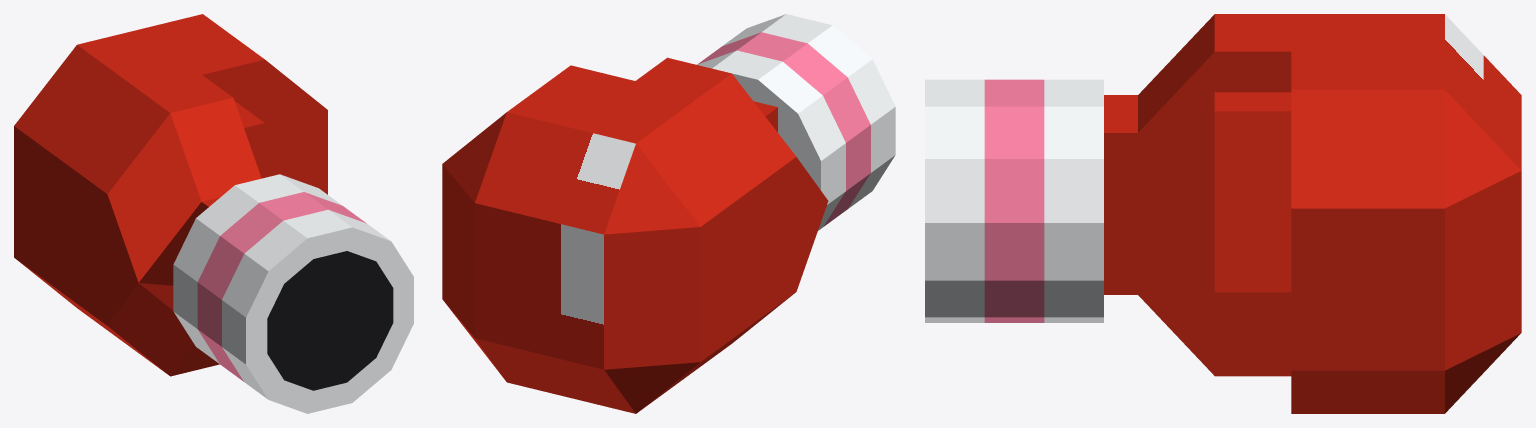
Rendered from BoxingGlove_Left.gltf.
3 views of the same model, side by side, from view 1: azimuth 30°, elevation 25°; view 2: azimuth 150°, elevation 25°; view 3: azimuth 270°, elevation 25° (orthographic). The views are drawn at different scales.
Visible parts, largest first — view 1: Glove-col, SleeveOpening (×2), Sleeve, Sleeve_pART; view 2: Glove-col, Glove_selection, Sleeve, Sleeve_pART; view 3: Glove-col, Sleeve, Sleeve_pART, Glove_selection.
Boxes of the visible parts, x1,y1,x2,y2 form: Glove-col: (14, 14, 327, 376); SleeveOpening (×2): (246, 227, 413, 413); Sleeve: (173, 174, 390, 399); Sleeve_pART: (197, 192, 366, 381); Glove-col: (442, 57, 828, 413); Glove_selection: (475, 112, 635, 369); Sleeve: (697, 14, 895, 230); Sleeve_pART: (697, 32, 870, 226); Glove-col: (1104, 14, 1521, 413); Sleeve: (925, 79, 1103, 322); Sleeve_pART: (984, 79, 1044, 322); Glove_selection: (1445, 14, 1521, 170).
Size of the model in its own units: 0.375 by 0.375 by 0.6256.
Materials: 5 (5 with a texture image).
